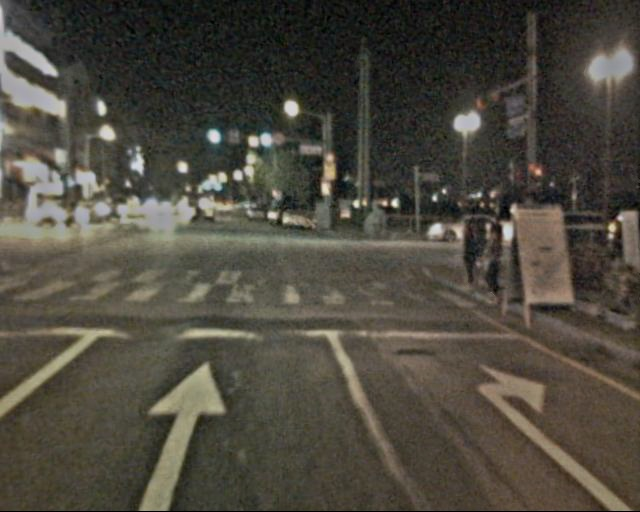person: (452, 218, 487, 296), (477, 224, 510, 305)
